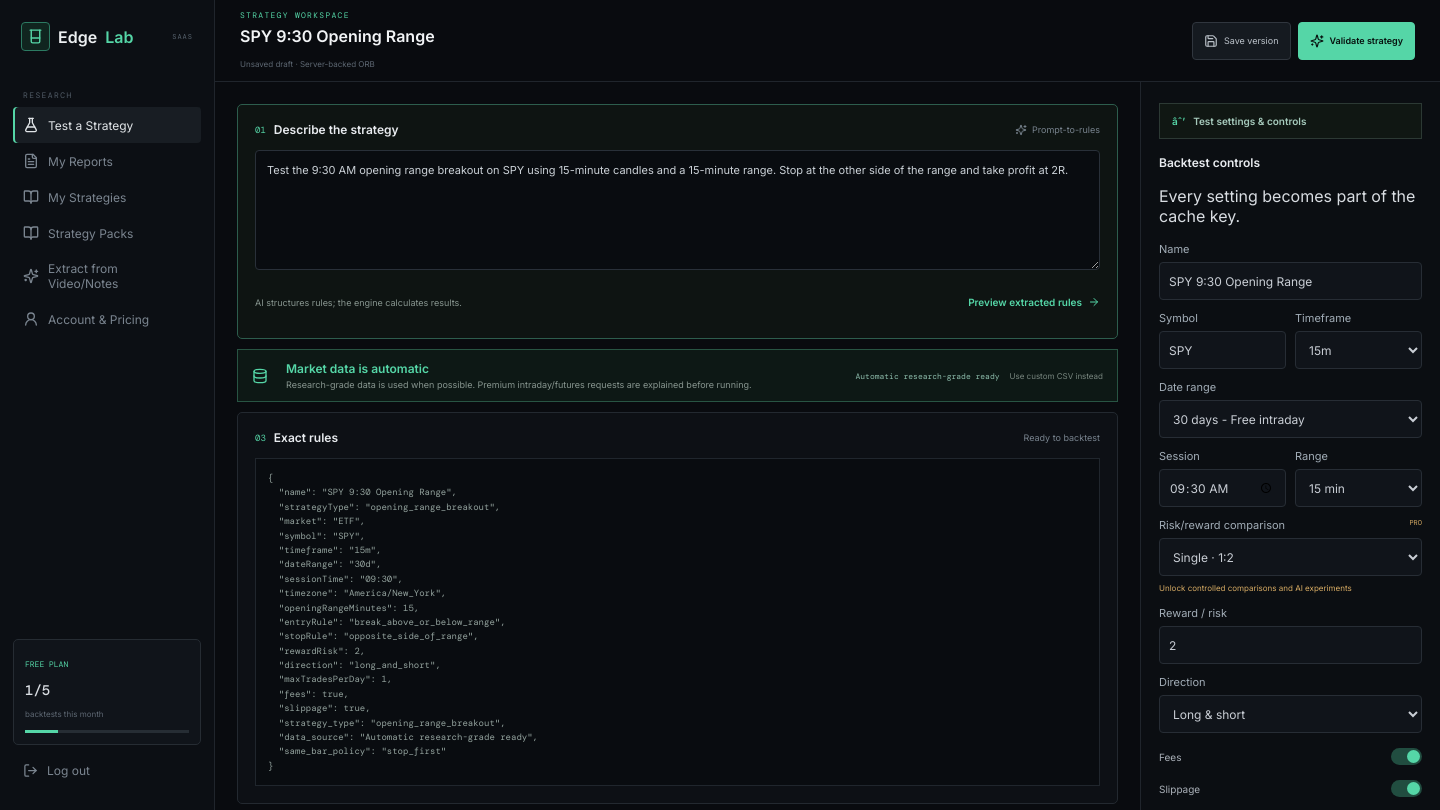
Scenario: server-backed SaaS workspace › parses a prompt while exposing parser assumptions
The width and height of the screenshot is (1440, 810).
Expected: the heading "Describe the strategy" is shown, 274,122 -> 399,137
Click the button "Preview extracted rules".
click(1034, 302)  # box 968,283 -> 1100,321
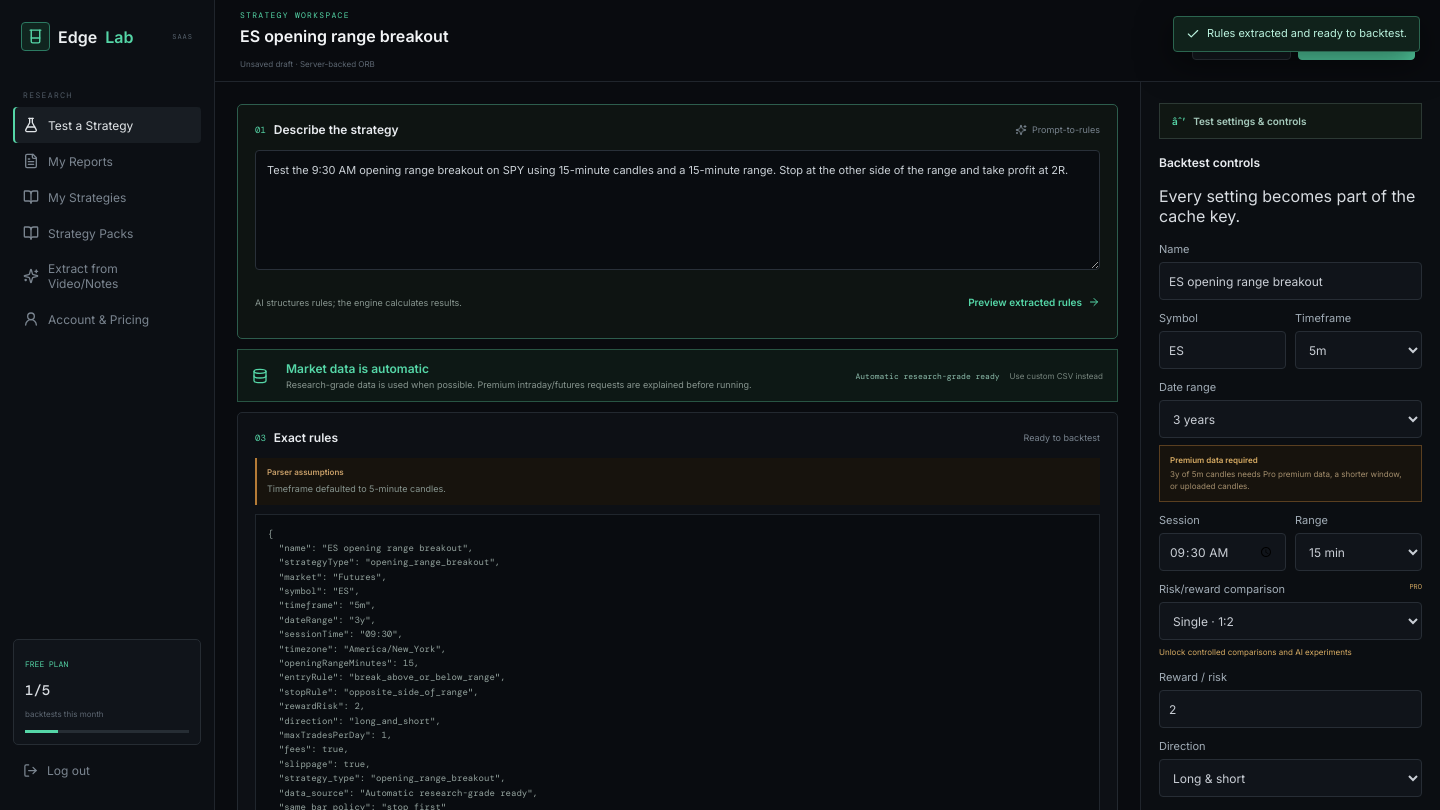
Expected: the text "Parser assumptions" is shown, 267,467 -> 344,477
Expected: the text "Timeframe defaulted to 5-minute candles." is shown, 267,483 -> 446,494
Expected: the field showing "ES opening range breakout" is shown, 1159,262 -> 1422,300
